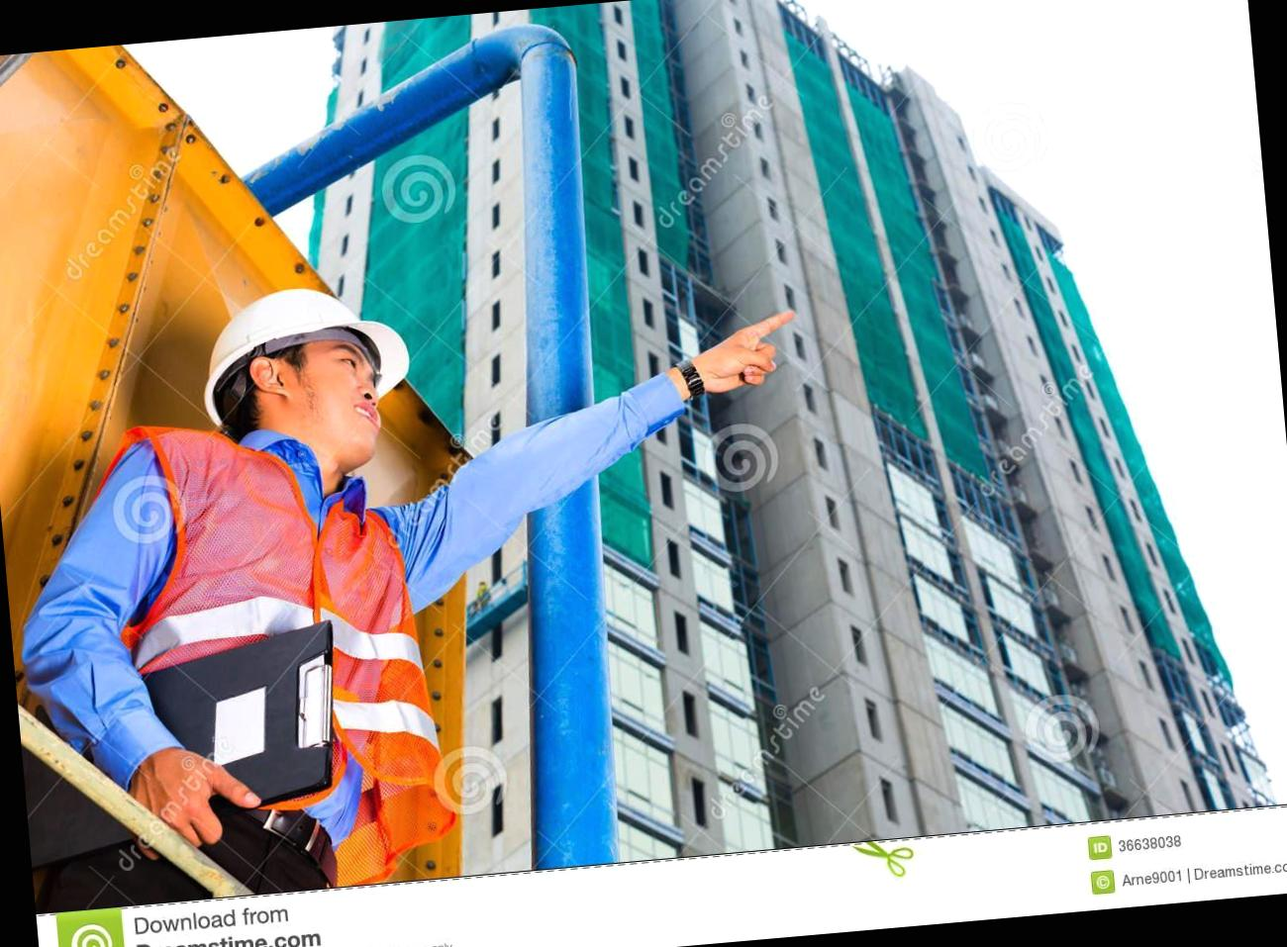helmet: (188, 280, 432, 430)
person: (43, 267, 521, 913)
